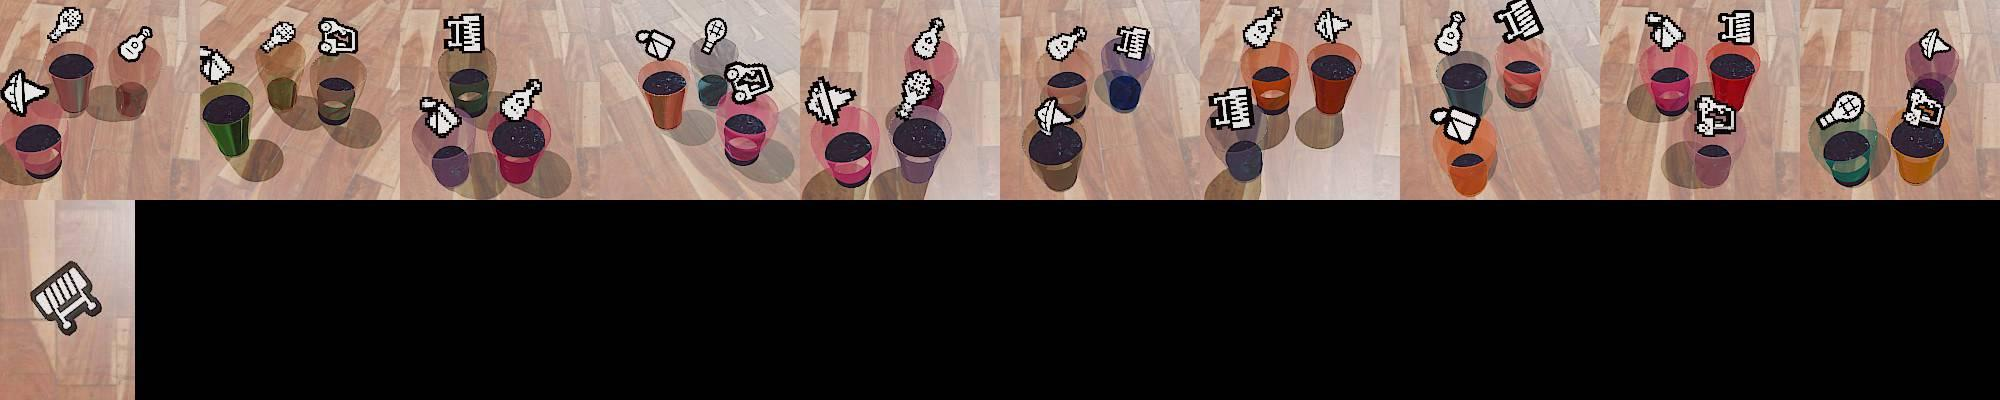icon: (30, 262, 103, 336), (803, 75, 857, 126), (1, 69, 51, 117), (723, 60, 773, 105), (1493, 0, 1544, 44), (895, 68, 936, 120), (1206, 85, 1253, 130), (1430, 104, 1482, 143), (1693, 94, 1737, 138), (499, 77, 543, 121), (418, 94, 462, 137), (1242, 5, 1284, 50), (1816, 91, 1866, 128), (1902, 85, 1944, 129), (1033, 94, 1076, 136), (317, 17, 359, 57), (443, 13, 483, 55), (1045, 23, 1088, 62), (1646, 11, 1686, 51), (1435, 9, 1468, 56), (911, 16, 945, 60), (199, 44, 236, 84), (1716, 9, 1755, 46), (1314, 7, 1352, 44), (1115, 24, 1151, 62), (46, 7, 84, 43), (635, 28, 676, 61), (117, 26, 153, 62), (1918, 28, 1955, 62), (260, 21, 297, 54), (699, 17, 728, 56)
